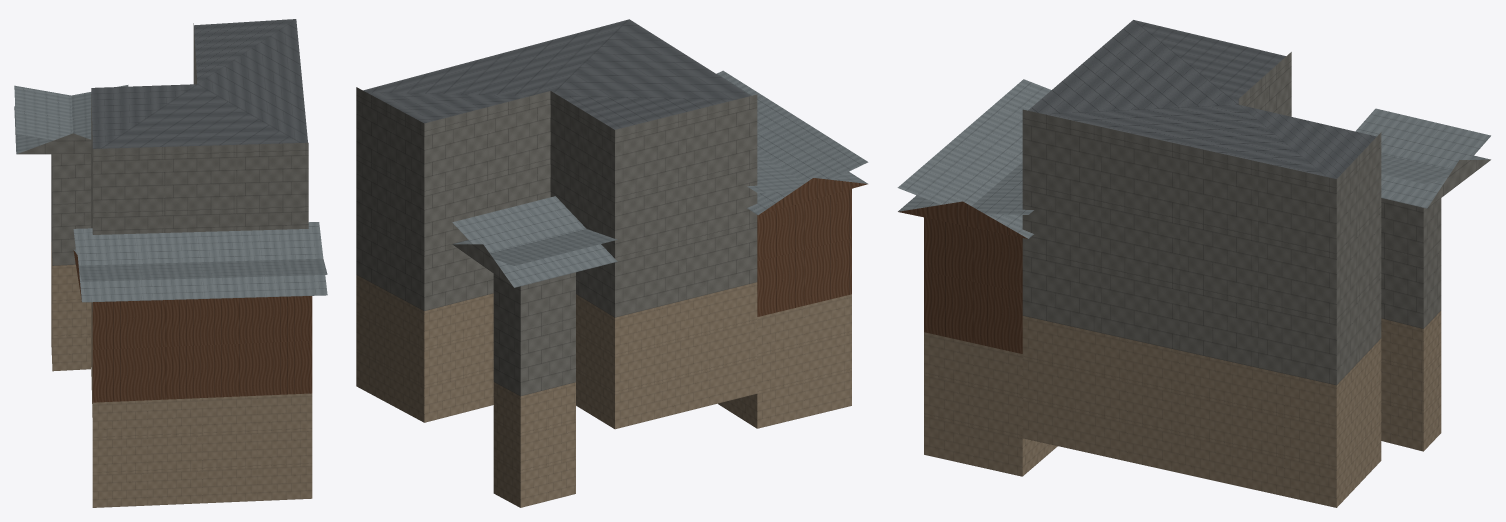
The model's file is bld_c9_15_454.gltf.
3 views of the same model, side by side, from view 1: azimuth 30°, elevation 25°; view 2: azimuth 150°, elevation 25°; view 3: azimuth 270°, elevation 25° (orthographic). The views are drawn at different scales.
Parts seen in each view (by area): view 1: bld_c9_15_454; view 2: bld_c9_15_454; view 3: bld_c9_15_454.
Part boxes in pixels (box(x1,y1,x2,y2)): bld_c9_15_454: box(14, 19, 327, 507); bld_c9_15_454: box(356, 19, 868, 507); bld_c9_15_454: box(897, 20, 1490, 507).
Bounding box in the file's own units: 17.68 × 15.28 × 22.4.
Materials: 7 (7 with a texture image).
